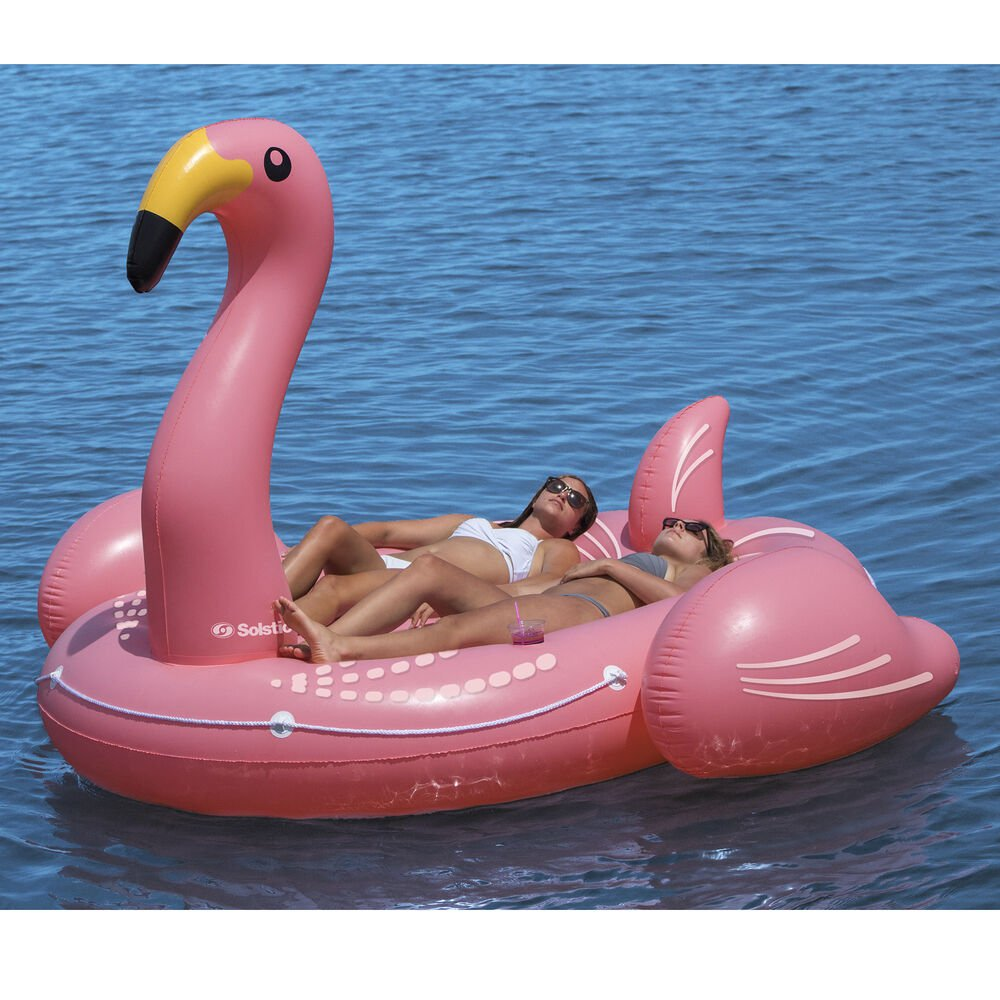Flamingo: (33, 113, 964, 828)
